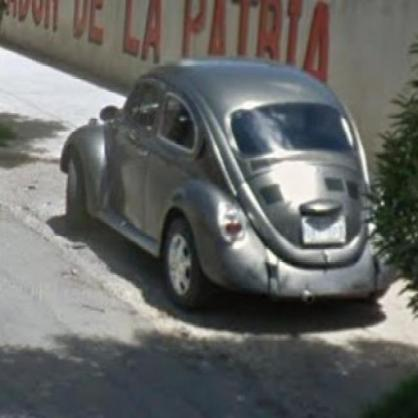car: (58, 52, 396, 317)
